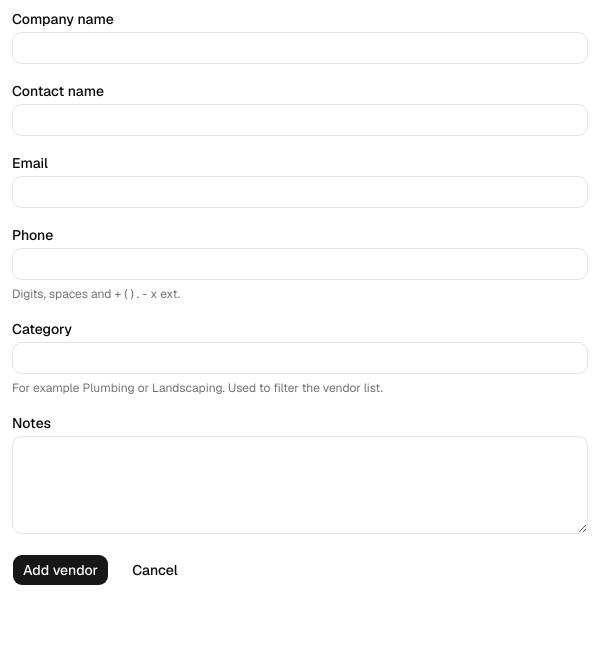
Test: VendorForm › shows client validation for a bad email and phone
Type "nope" into the field labelled "Email" at (300, 192), box [12,176,588,208]
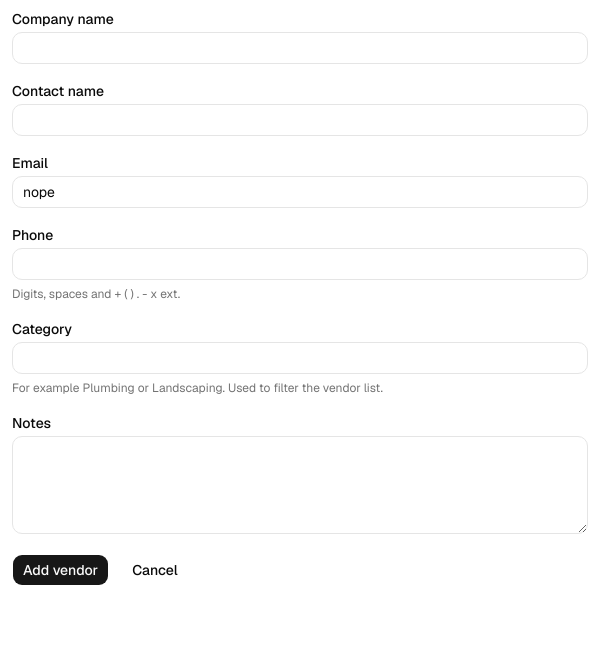
Type "call me" into the field labelled "Phone" at (300, 264), box [12,248,588,280]
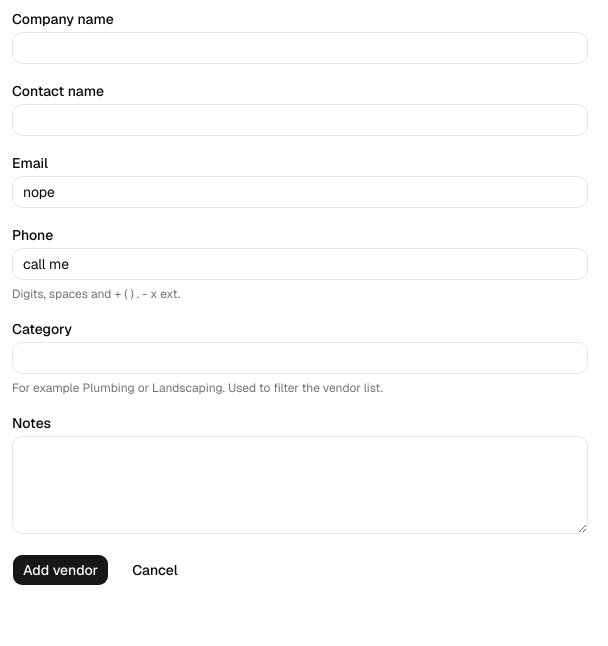
Type "Acme" into the field labelled "Company name" at (300, 48), box [12,32,588,64]
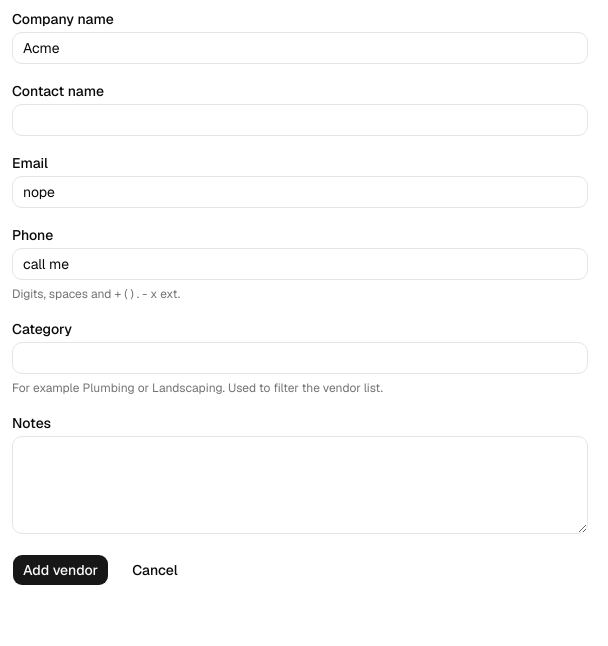
Click the button "Add vendor" at (61, 570), box [12,554,109,586]
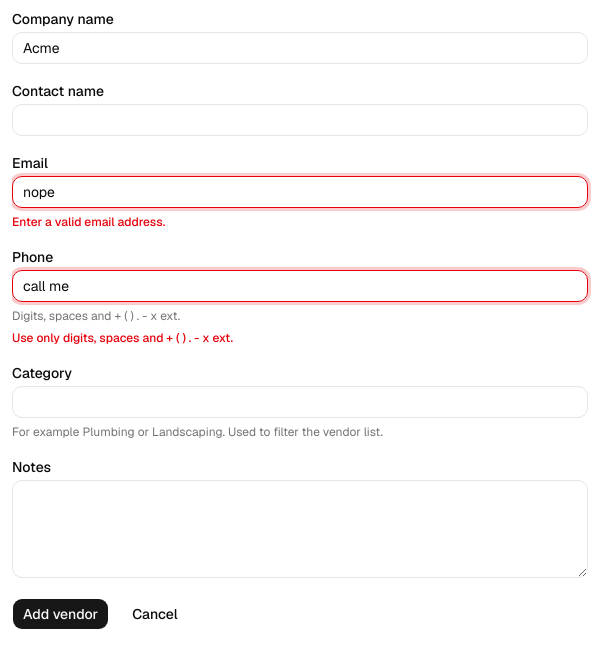
Expected: the text "Enter a valid email address." is shown, [12,214,165,230]
Expected: the text "Use only digits, spaces and + ( ) . - x ext." is shown, [12,330,233,346]
